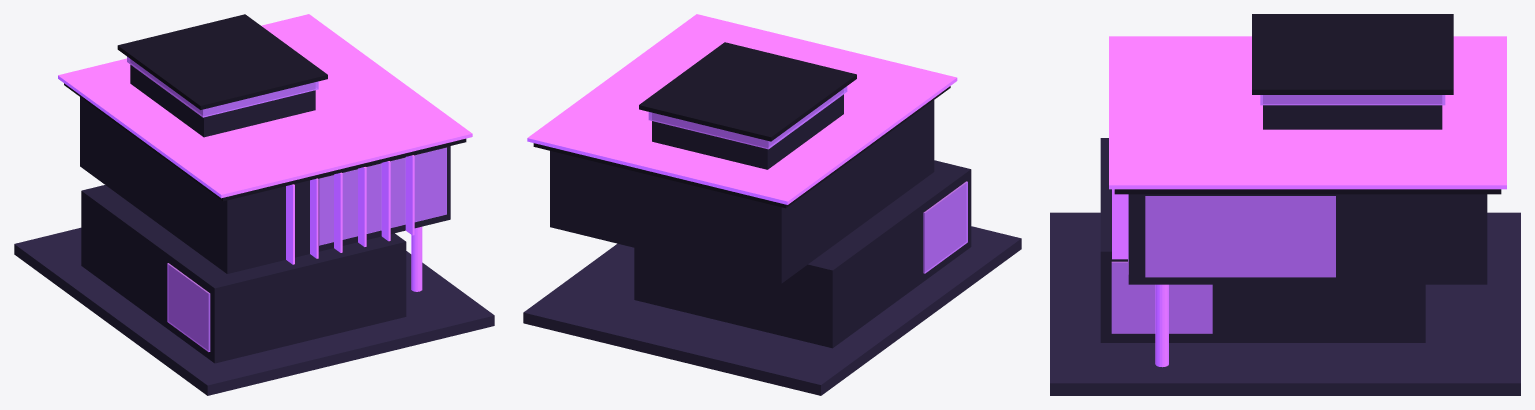
3 views of the same model, side by side, from view 1: azimuth 30°, elevation 25°; view 2: azimuth 150°, elevation 25°; view 3: azimuth 270°, elevation 25° (orthographic). The views are drawn at different scales.
Parts seen in each view (by area): view 1: IC_LowerGallery, IC_LayeredRoofSlab_2, IC_CantileverVolume, IC_BasePlinth, IC_PavilionRoofSlab, IC_GlazedCorner_South, IC_RooftopPavilion, IC_LowerGallery_Glass, IC_RooftopPavilion_Clerestory, IC_LayeredRoofSlab_1, IC_CantileverColumn_2.8, IC_SunshadeFin_2.2 (+5 smaller); view 2: IC_CantileverVolume, IC_LayeredRoofSlab_2, IC_LowerGallery, IC_BasePlinth, IC_PavilionRoofSlab, IC_RooftopPavilion, IC_LowerGallery_Glass, IC_RooftopPavilion_Clerestory, IC_LayeredRoofSlab_1; view 3: IC_LayeredRoofSlab_2, IC_BasePlinth, IC_CantileverVolume, IC_LowerGallery, IC_PavilionRoofSlab, IC_GlazedCorner_East, IC_RooftopPavilion, IC_LowerGallery_Glass, IC_LayeredRoofSlab_1, IC_RooftopPavilion_Clerestory, IC_CantileverColumn_2.8, IC_SunshadeFin_2.2.
Part boxes in pixels (left/top/right/bottom): IC_LowerGallery: left=81, top=185, right=406, bottom=363; IC_LayeredRoofSlab_2: left=58, top=14, right=472, bottom=198; IC_CantileverVolume: left=80, top=97, right=450, bottom=273; IC_BasePlinth: left=14, top=227, right=494, bottom=395; IC_PavilionRoofSlab: left=117, top=14, right=327, bottom=109; IC_GlazedCorner_South: left=319, top=147, right=446, bottom=245; IC_RooftopPavilion: left=130, top=60, right=315, bottom=137; IC_LowerGallery_Glass: left=167, top=263, right=210, bottom=351; IC_RooftopPavilion_Clerestory: left=127, top=56, right=318, bottom=117; IC_LayeredRoofSlab_1: left=64, top=83, right=466, bottom=201; IC_CantileverColumn_2.8: left=411, top=226, right=422, bottom=291; IC_SunshadeFin_2.2: left=405, top=155, right=414, bottom=235; IC_CantileverVolume: left=550, top=100, right=934, bottom=283; IC_LayeredRoofSlab_2: left=527, top=14, right=957, bottom=204; IC_LowerGallery: left=634, top=160, right=971, bottom=348; IC_BasePlinth: left=523, top=226, right=1021, bottom=395; IC_PavilionRoofSlab: left=639, top=42, right=856, bottom=141; IC_RooftopPavilion: left=652, top=89, right=843, bottom=169; IC_LowerGallery_Glass: left=923, top=181, right=967, bottom=273; IC_RooftopPavilion_Clerestory: left=648, top=86, right=847, bottom=149; IC_LayeredRoofSlab_1: left=533, top=86, right=950, bottom=208; IC_LayeredRoofSlab_2: left=1109, top=36, right=1506, bottom=189; IC_BasePlinth: left=1050, top=212, right=1520, bottom=395; IC_CantileverVolume: left=1128, top=194, right=1487, bottom=284; IC_LowerGallery: left=1100, top=138, right=1425, bottom=342; IC_PavilionRoofSlab: left=1252, top=14, right=1453, bottom=94; IC_GlazedCorner_East: left=1145, top=196, right=1335, bottom=277; IC_RooftopPavilion: left=1263, top=95, right=1442, bottom=129; IC_LowerGallery_Glass: left=1111, top=261, right=1212, bottom=333; IC_LayeredRoofSlab_1: left=1114, top=189, right=1501, bottom=194; IC_RooftopPavilion_Clerestory: left=1260, top=95, right=1445, bottom=105; IC_CantileverColumn_2.8: left=1155, top=284, right=1168, bottom=367; IC_SunshadeFin_2.2: left=1112, top=189, right=1127, bottom=259.
Bounding box in the file's own units: 7.25 × 5.05 × 8.4.
